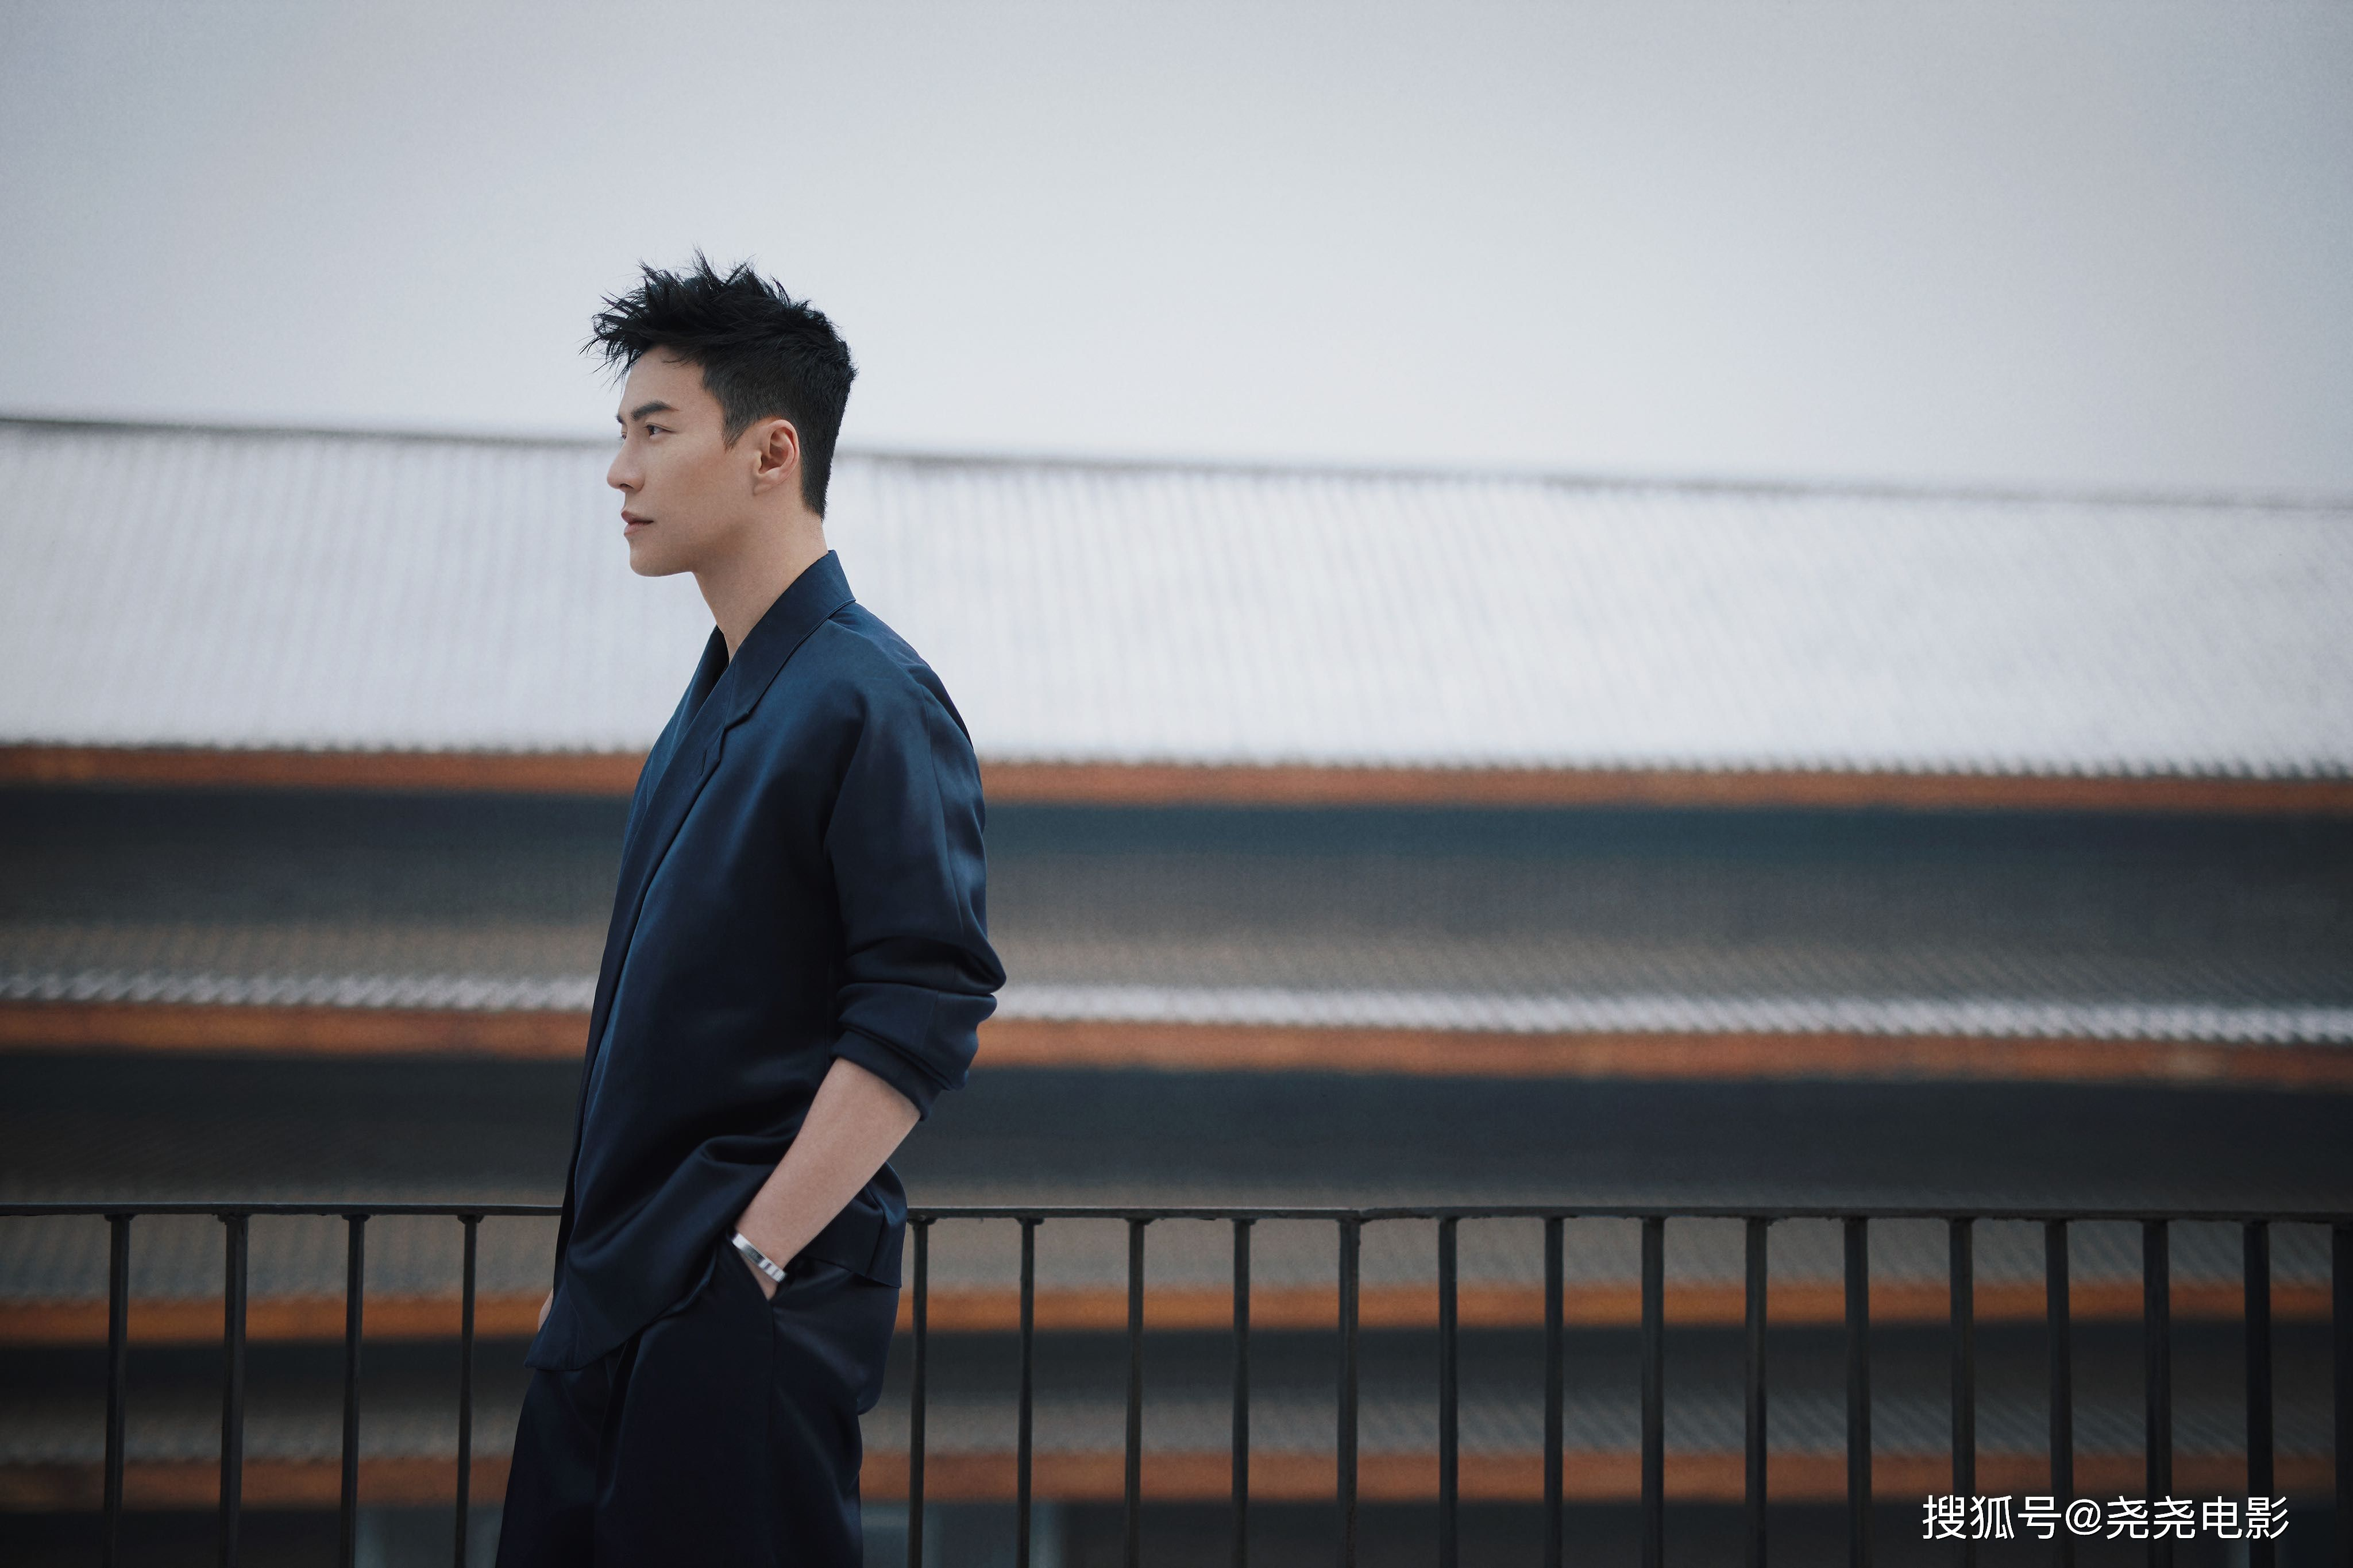person: (398, 248, 1019, 1568)
